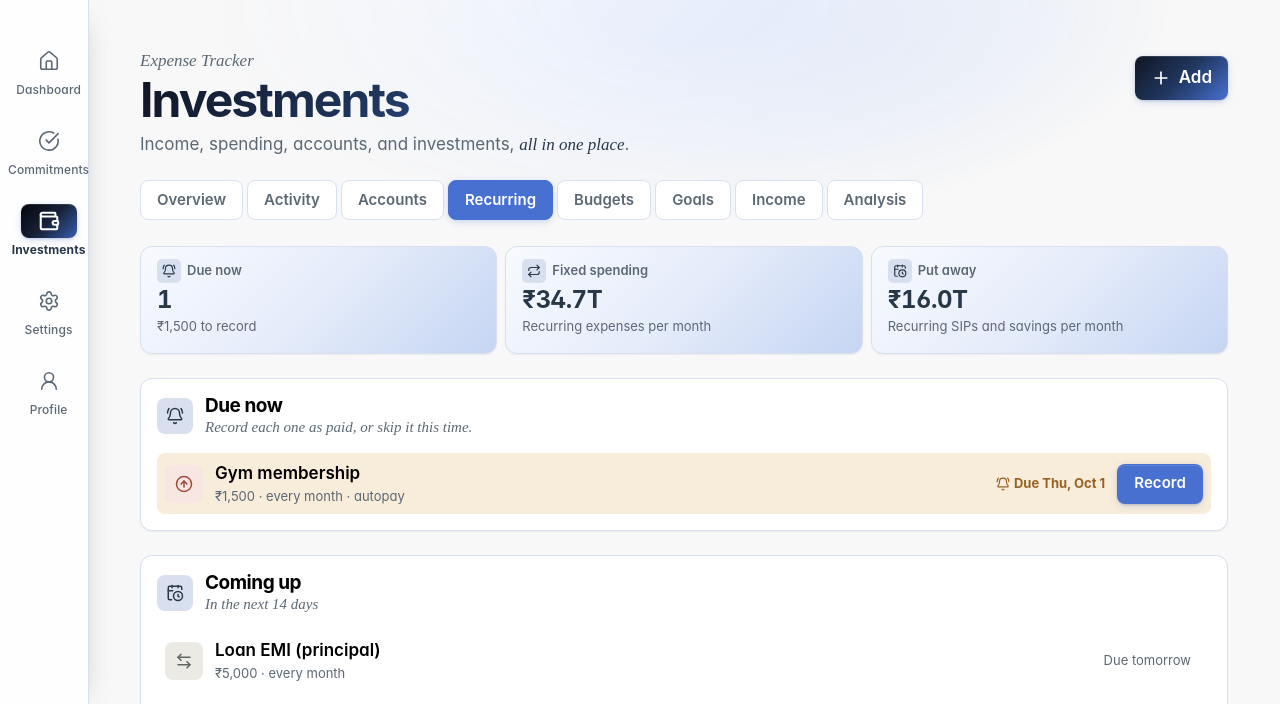
Test: Investments › records a due recurring payment from the Recurring screen
Click the button with aria-label "Record Gym membership" at coordinates (1160, 484), box [1117, 464, 1203, 504]
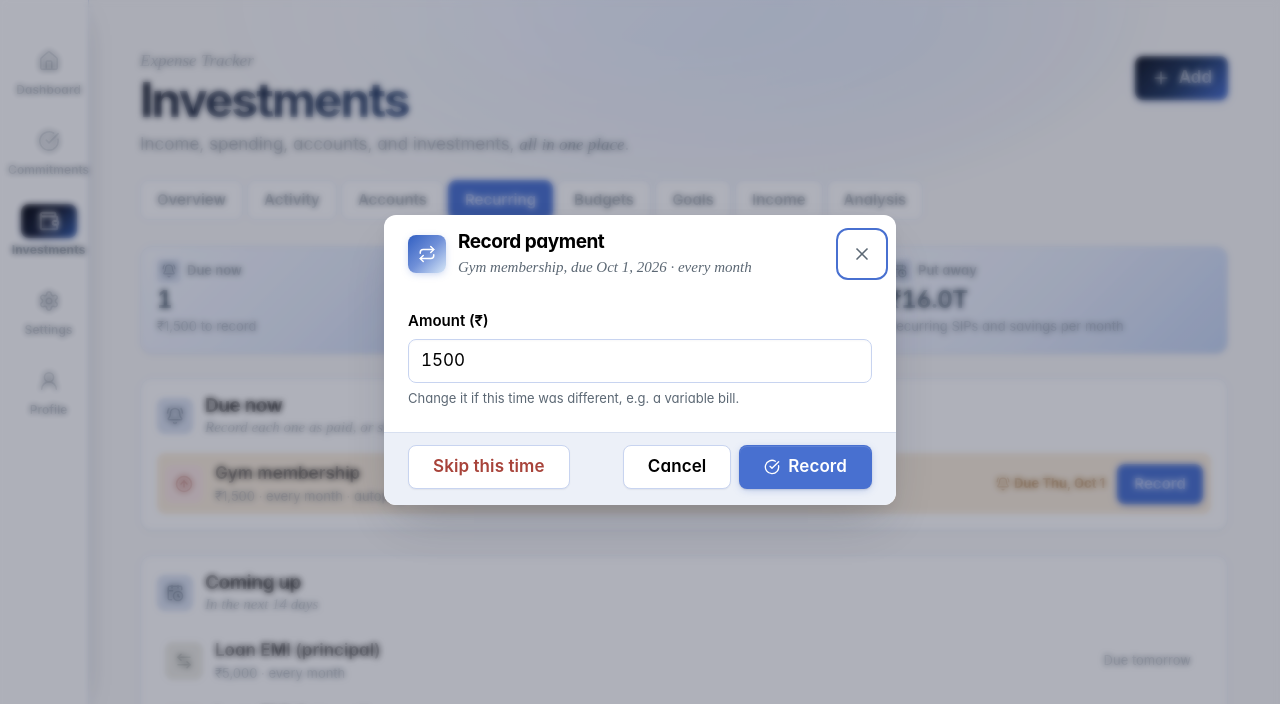
Click the button "Record" at coordinates (806, 467), box [739, 445, 872, 489]
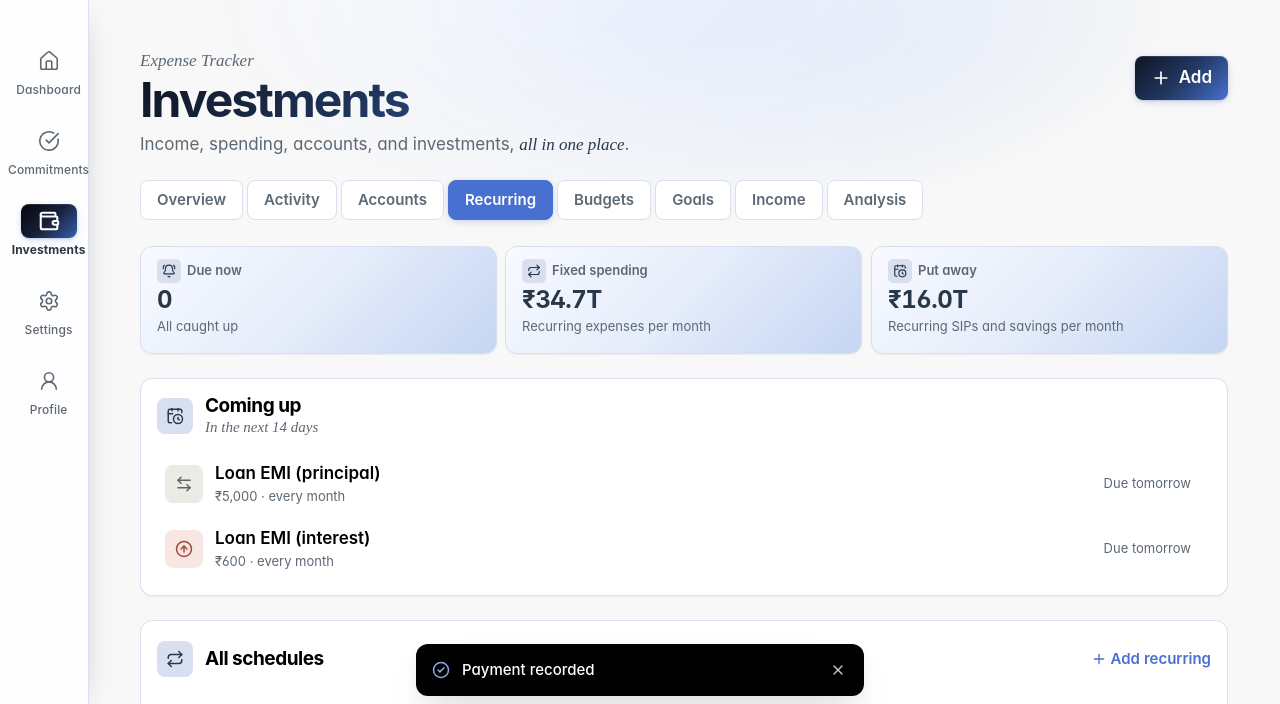
Result: the text "Payment recorded" is shown at [462, 660, 595, 679]
